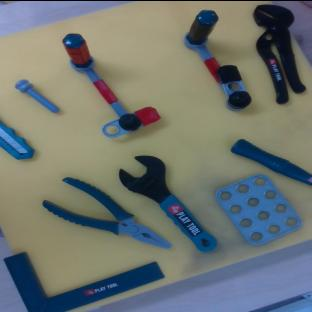non_pass: (176, 5, 254, 118)
pass: (36, 28, 162, 153)
